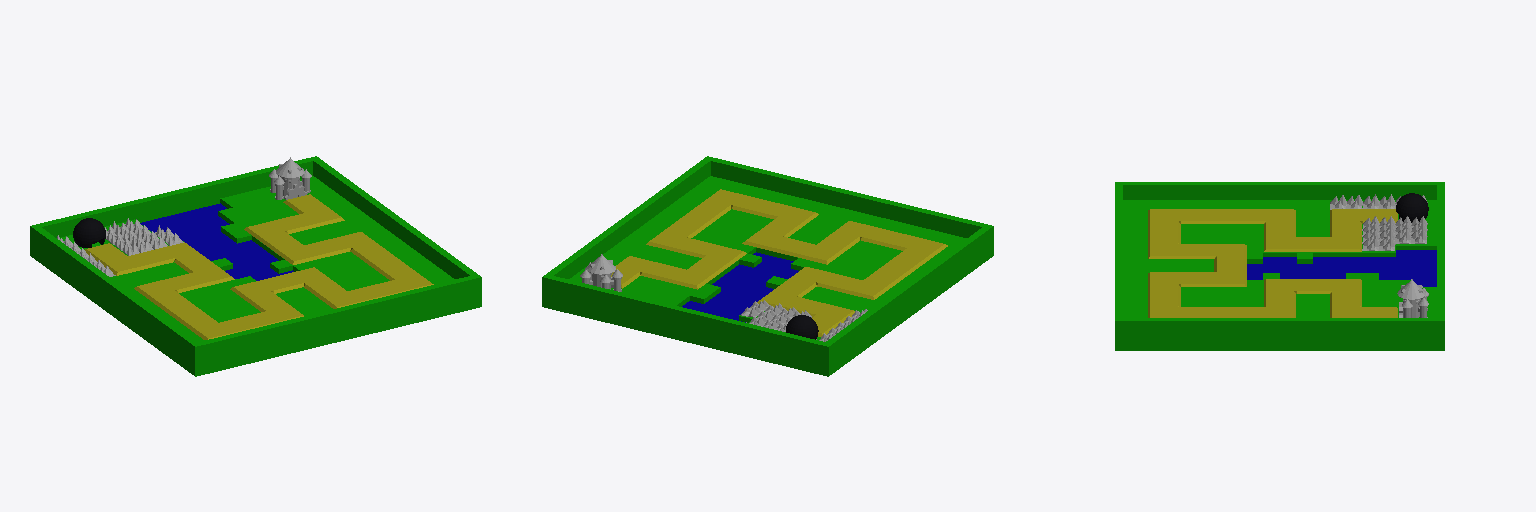
Rendered from towerdefense.obj.
3 views of the same model, side by side, from view 1: azimuth 30°, elevation 25°; view 2: azimuth 150°, elevation 25°; view 3: azimuth 270°, elevation 25° (orthographic).
Visible parts, largest first — view 1: Plane, Cube.014, Plane.001, Plane.002, Cylinder.004_Cylinder.003, Cube.015_Cube.016; view 2: Plane, Cube.014, Plane.002, Plane.001, Cylinder.004_Cylinder.003, Cube.015_Cube.016; view 3: Plane, Cube.014, Plane.001, Plane.002, Cylinder.004_Cylinder.003, Cube.015_Cube.016.
Boxes of the visible parts, <box> form: Plane: <box>30,156,481,376</box>; Cube.014: <box>85,194,433,339</box>; Plane.001: <box>140,203,252,258</box>; Plane.002: <box>200,240,293,280</box>; Cylinder.004_Cylinder.003: <box>269,157,311,199</box>; Cube.015_Cube.016: <box>73,218,105,247</box>; Plane: <box>542,156,993,376</box>; Cube.014: <box>611,189,947,336</box>; Plane.002: <box>712,252,798,300</box>; Plane.001: <box>682,280,757,322</box>; Cylinder.004_Cylinder.003: <box>580,254,622,291</box>; Cube.015_Cube.016: <box>786,315,818,339</box>; Plane: <box>1115,182,1444,350</box>; Cube.014: <box>1148,209,1397,317</box>; Plane.001: <box>1313,250,1436,286</box>; Plane.002: <box>1247,257,1345,279</box>; Cylinder.004_Cylinder.003: <box>1397,279,1428,317</box>; Cube.015_Cube.016: <box>1396,193,1428,222</box>.
Size of the model in its own units: 1.94 by 0.3302 by 1.94.